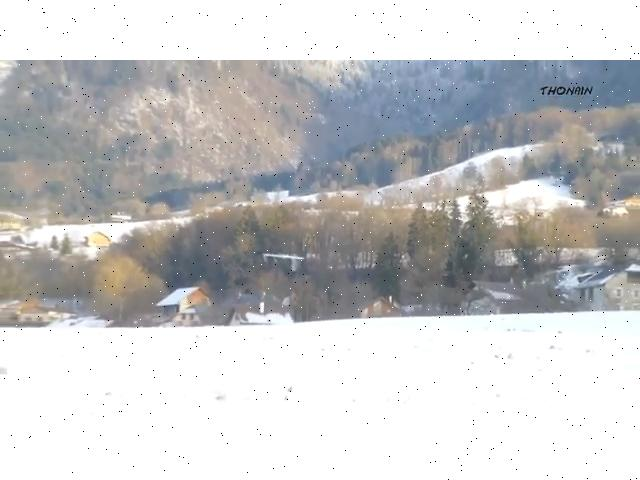Anti-Drone: (266, 253, 302, 259)
